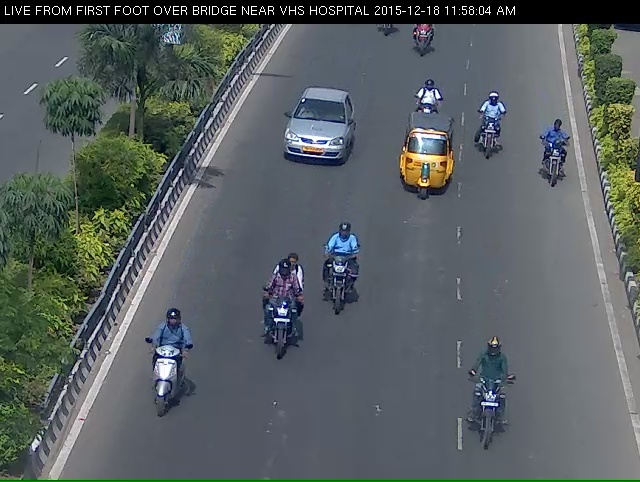Auto: (390, 122, 457, 212)
Car: (276, 97, 350, 177)
Person: (458, 355, 516, 476), (304, 241, 373, 326), (252, 281, 302, 392), (136, 332, 179, 448), (476, 96, 508, 167), (538, 124, 570, 195), (402, 19, 434, 60), (409, 86, 439, 124)
